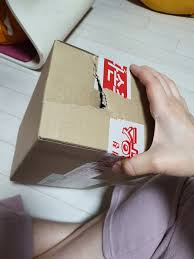damaged package: (92, 59, 108, 107)
